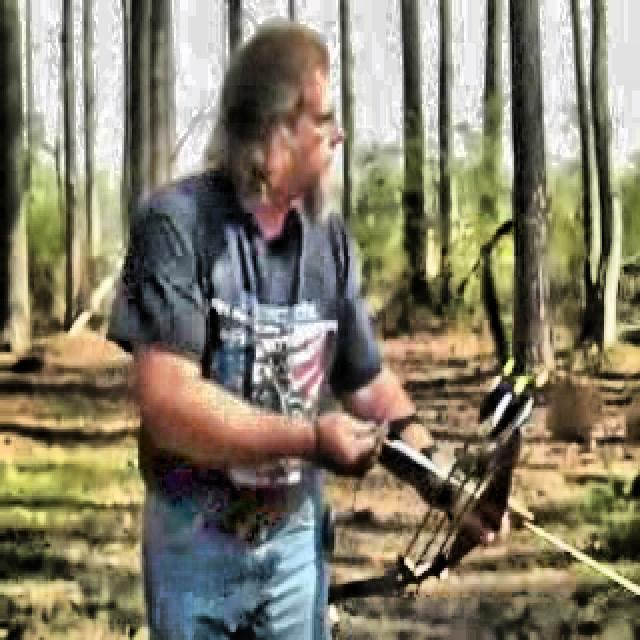I: (110, 11, 551, 640)
